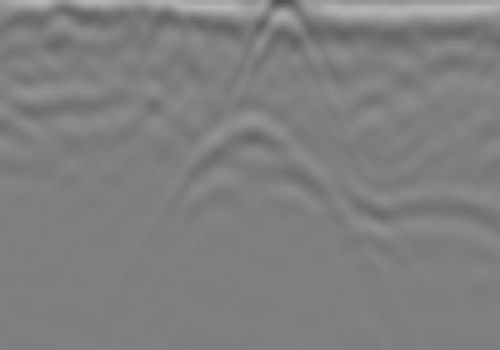hyperbola: (137, 108, 364, 293), (230, 2, 339, 112)
